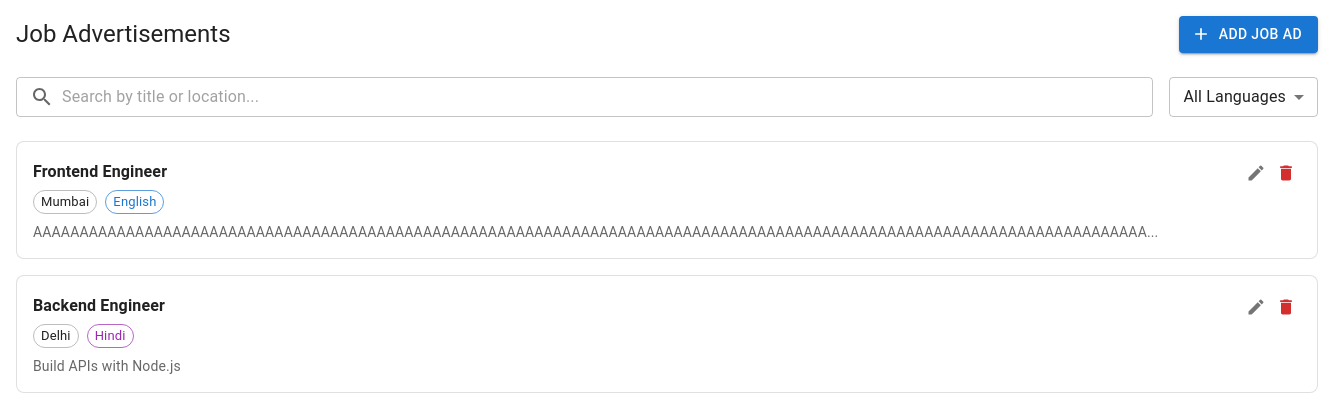
it: JobAdsListPage › filters job ads by search term in the location
The width and height of the screenshot is (1336, 410).
Type "delhi" into the field with placeholder "Search by title or location..." at [608, 96], box [62,76,1154,116]
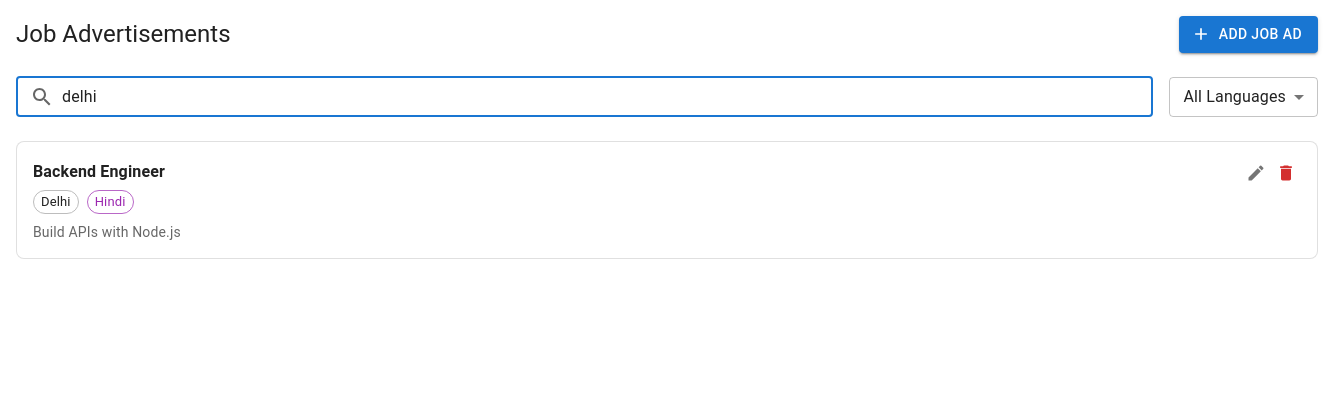
Expected: the heading "Backend Engineer" is shown, [33,162,165,180]
Result: the heading "Frontend Engineer" is gone
